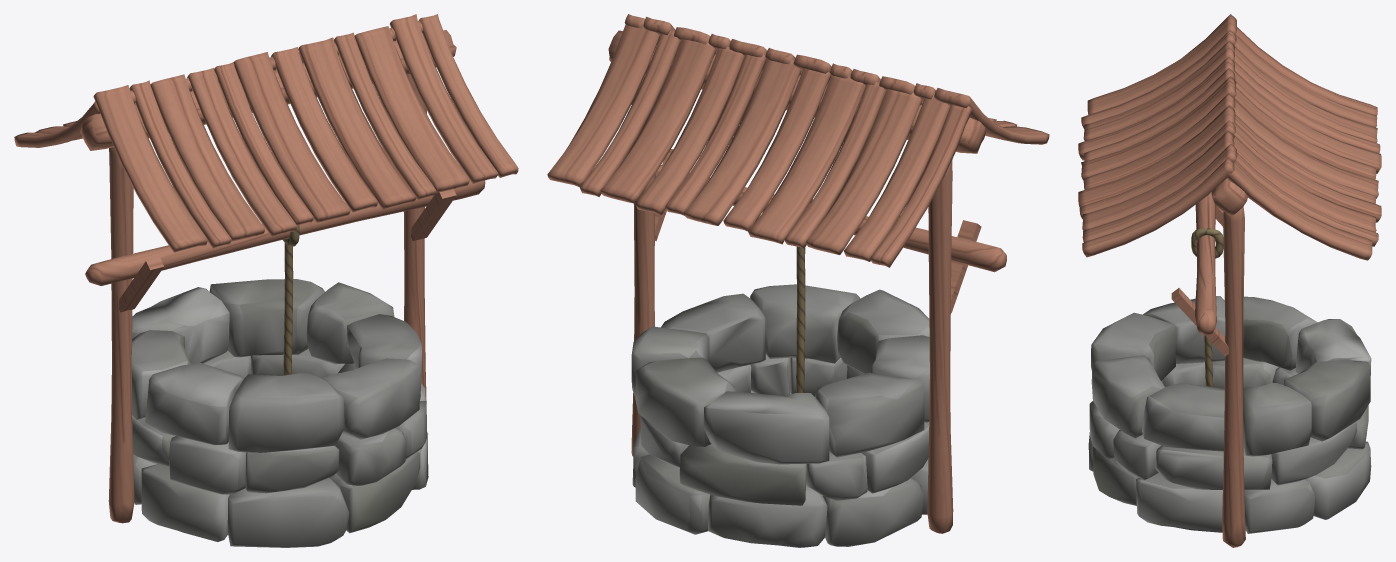
File: well.fbx
3 renders of one model, left to right at view 1: azimuth 30°, elevation 25°; view 2: azimuth 150°, elevation 25°; view 3: azimuth 270°, elevation 25°, orthographic. The views are drawn at different scales.
Parts seen in each view (by area): view 1: Object342506; view 2: Object342506; view 3: Object342506.
Boxes of the visible parts, x1,y1,x2,y2 form: Object342506: (14,14,518,547); Object342506: (547,14,1049,547); Object342506: (1078,14,1381,547).
Size of the model in its own units: 115 by 122 by 85.74.
1 material, 1 textured.
